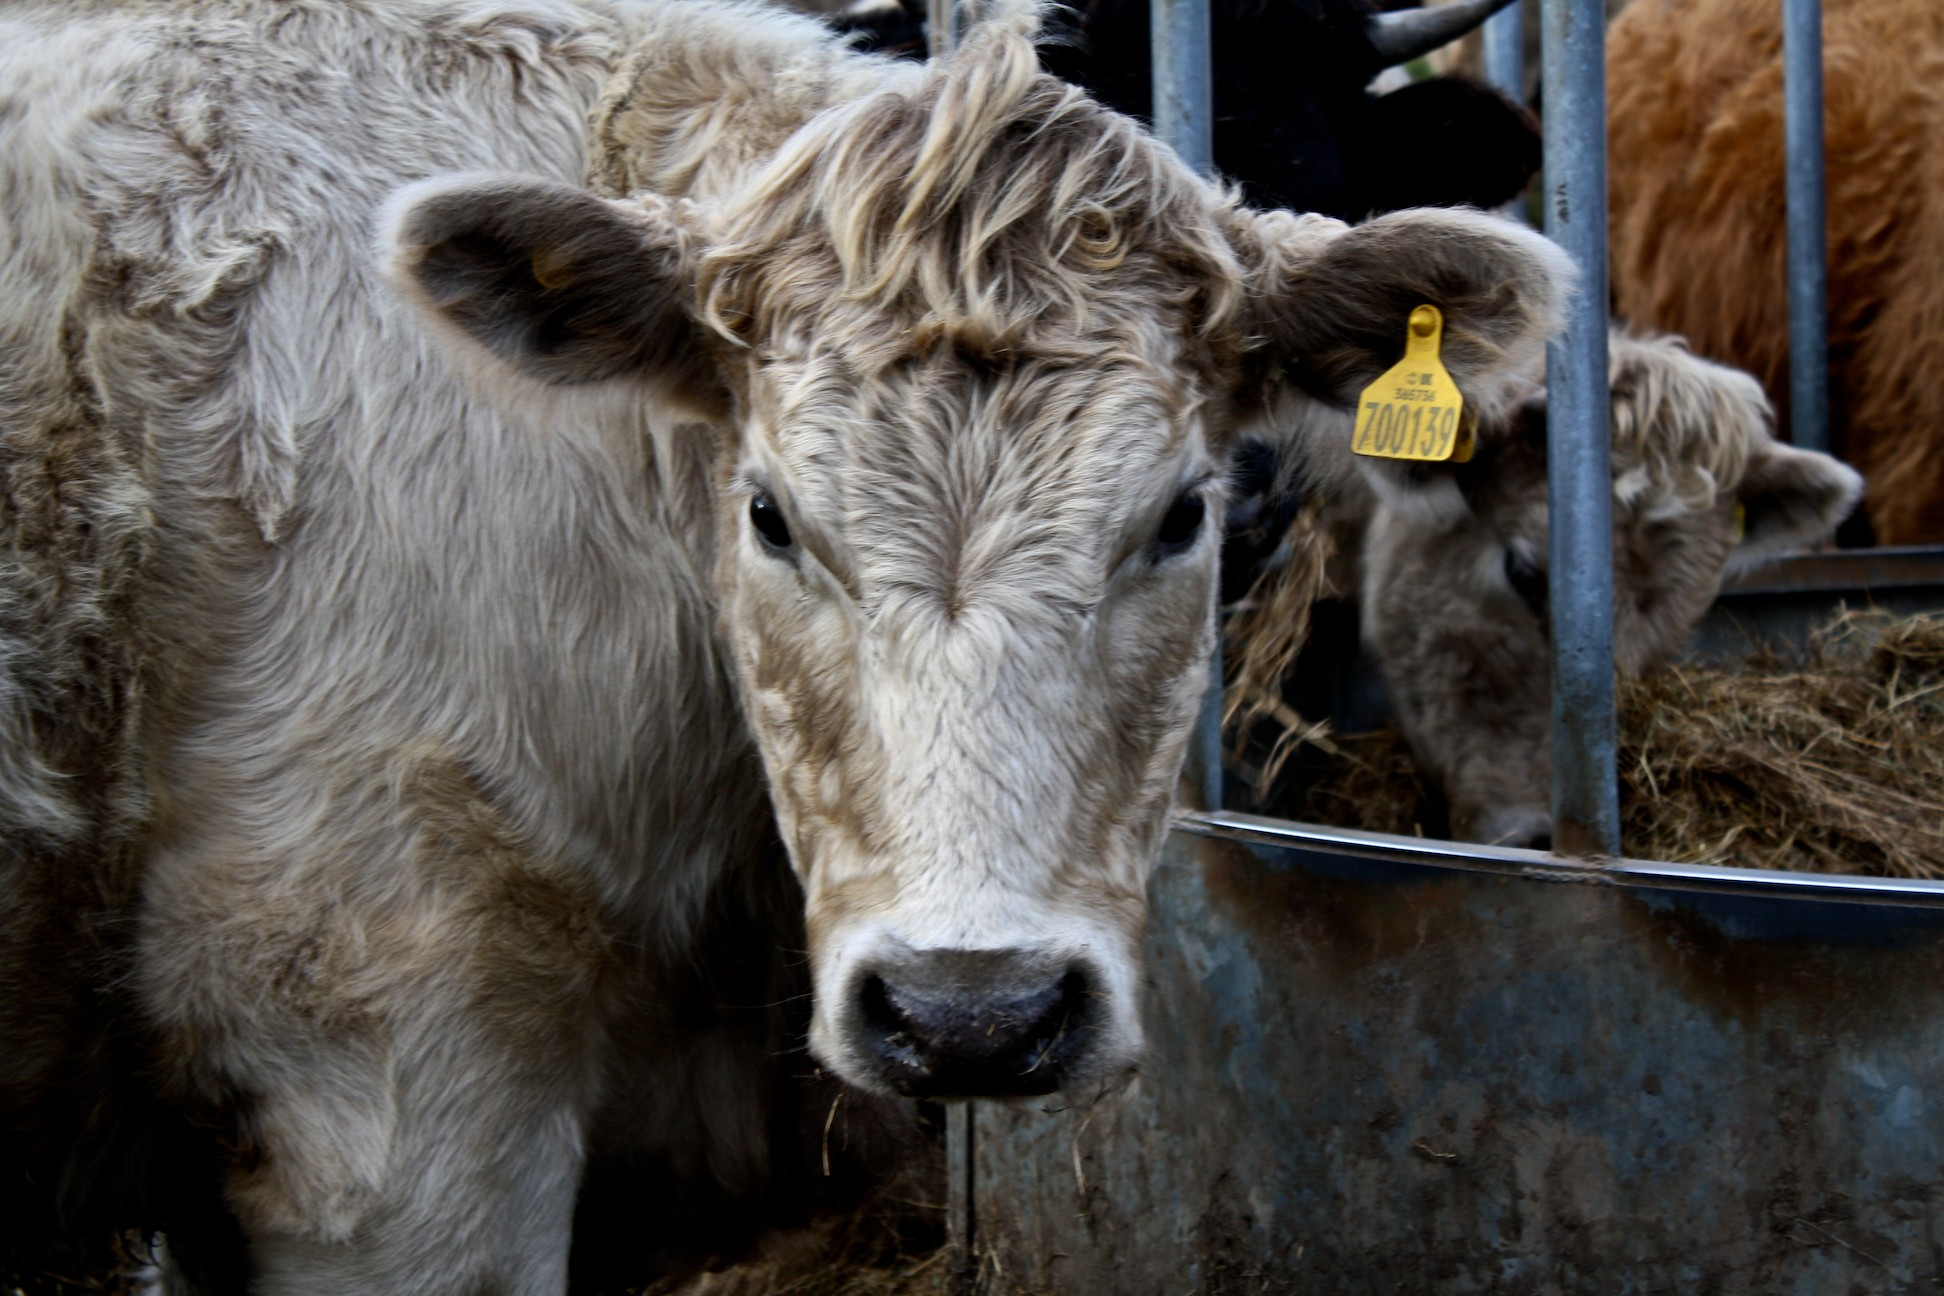cow: (7, 30, 1264, 1287), (1287, 171, 1836, 900)
